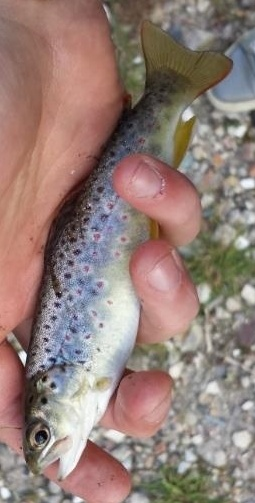Salmo trutta subsp. fario: (20, 20, 235, 483)
